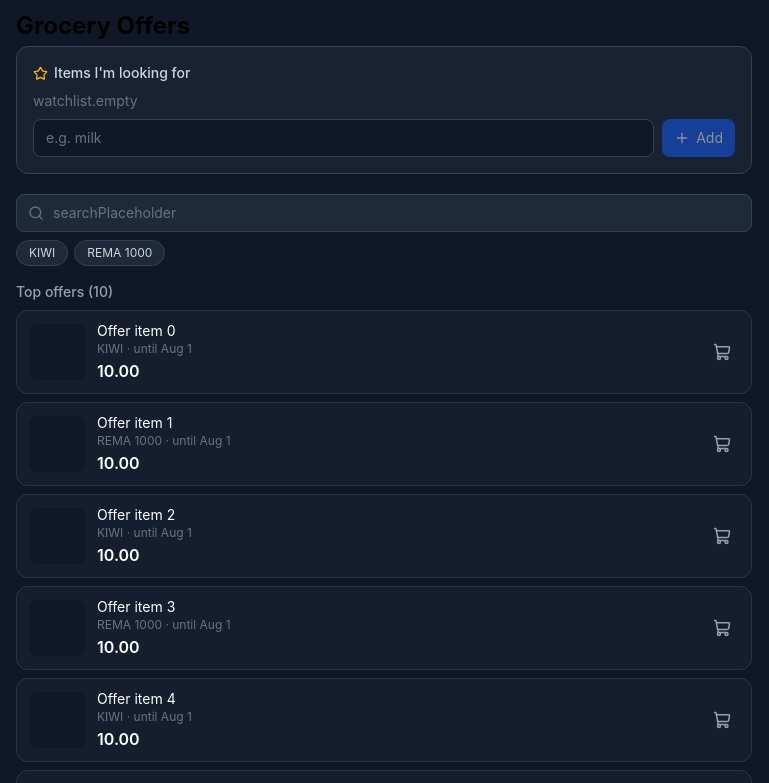
Scenario: OffersPage › paging and filtered-empty state › shows a single filtered-empty state that clears search and chain filters
The image size is (769, 783).
expect the heading "Top offers (10)" is shown: met, box [16,283,113,300]
Click the button "KIWI" at (42, 253), box [16,240,68,266]
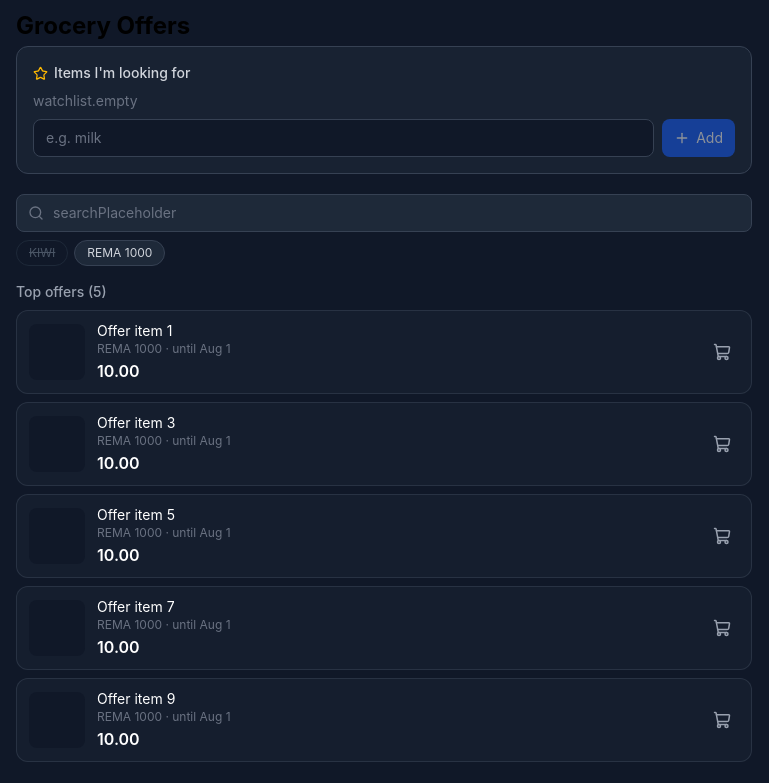
Type "nothing matches" into the search field labelled "searchPlaceholder" at (384, 213), box [16,194,752,232]
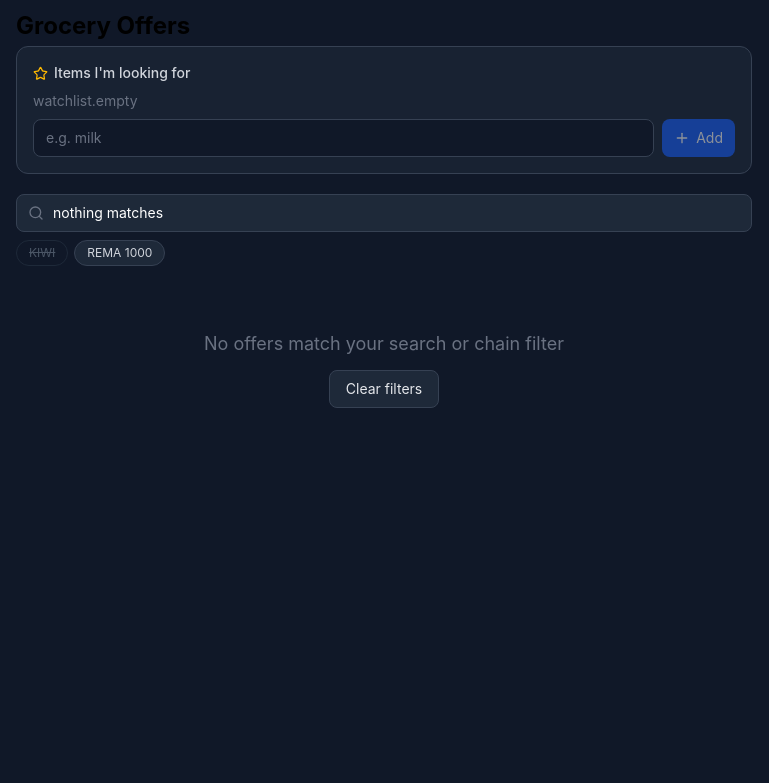
expect the text "No offers match your search or chain filter" is shown: met, box [204,333,564,354]
expect the heading "Top offers" is gone: met
Click the button "Clear filters" at (384, 389), box [329,370,439,408]
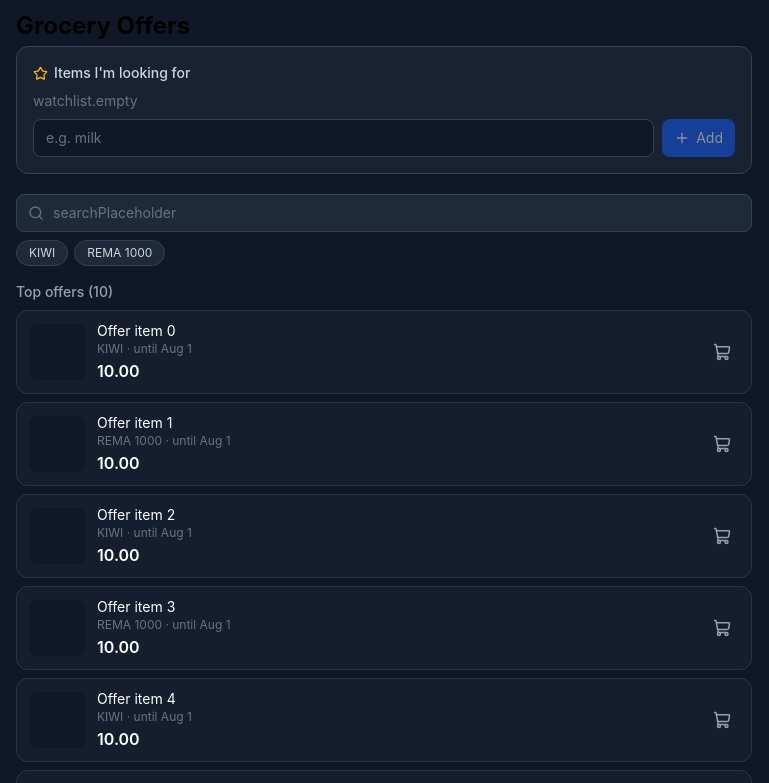
expect the heading "Top offers (10)" is shown: met, box [16,283,113,300]
expect the search field labelled "searchPlaceholder" is empty: met, box [16,194,752,232]
